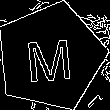M_N: (25, 29, 77, 84)
